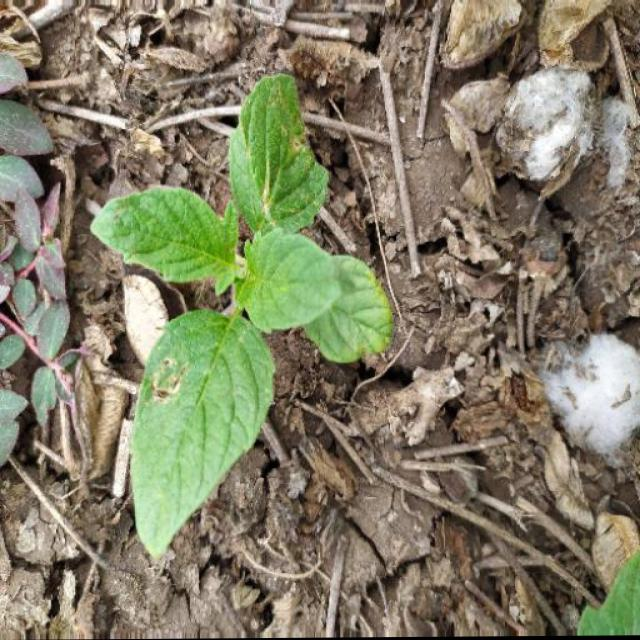weed: (94, 89, 416, 553)
